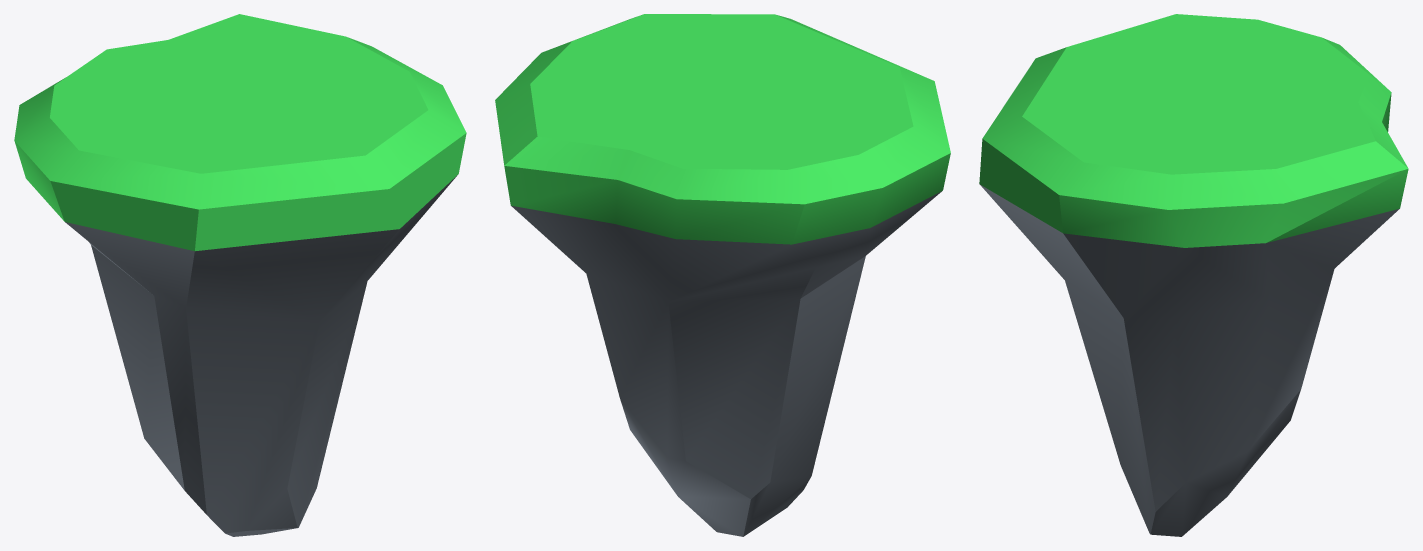
The model's file is island_04.fbx.
The picture shows the model from 3 angles, left to right: view 1: azimuth 30°, elevation 25°; view 2: azimuth 150°, elevation 25°; view 3: azimuth 270°, elevation 25°; orthographic projection. The views are drawn at different scales.
Parts seen in each view (by area): view 1: Island.005; view 2: Island.005; view 3: Island.005.
Boxes of the visible parts, x1=… form: Island.005: x1=14, y1=14, x2=466, y2=536; Island.005: x1=495, y1=14, x2=950, y2=536; Island.005: x1=979, y1=14, x2=1408, y2=536.
Size of the model in its own units: 677 by 711 by 640.
